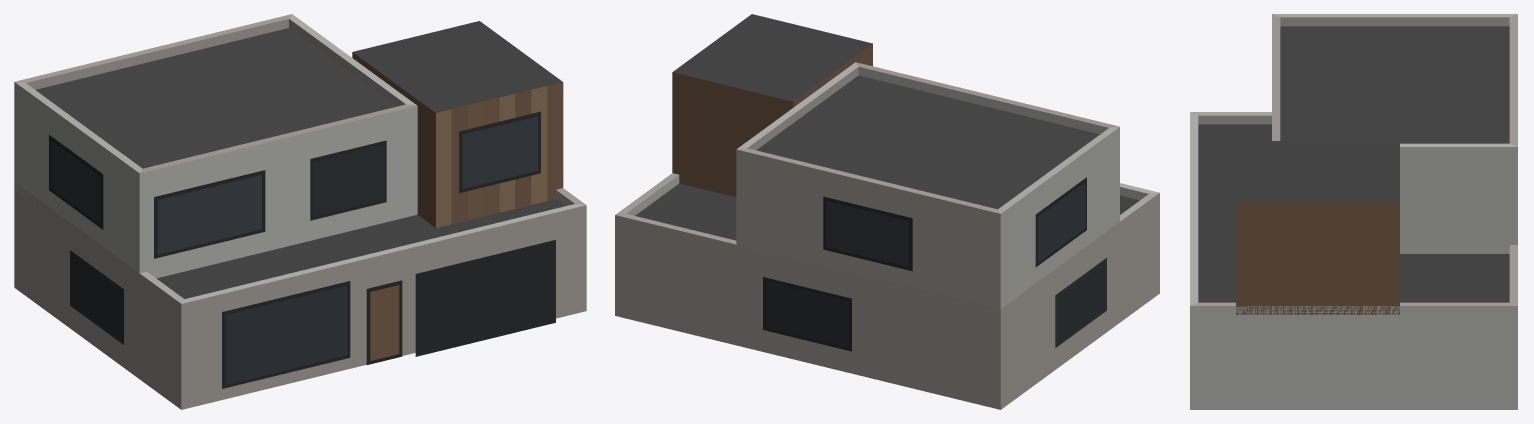
File: house-modern.glb
3 renders of one model, left to right at view 1: azimuth 30°, elevation 25°; view 2: azimuth 150°, elevation 25°; view 3: azimuth 270°, elevation 25°, orthographic. The views are drawn at different scales.
Visible parts, largest first — view 1: house-modern_v0_LOD0; view 2: house-modern_v0_LOD0; view 3: house-modern_v0_LOD0.
Part boxes in pixels (bbox=[...]): house-modern_v0_LOD0: bbox=[14, 14, 586, 409]; house-modern_v0_LOD0: bbox=[615, 14, 1159, 409]; house-modern_v0_LOD0: bbox=[1190, 14, 1517, 409].
Size of what is drawn, in the model's own units: 14.05 by 7.12 by 10.1.
